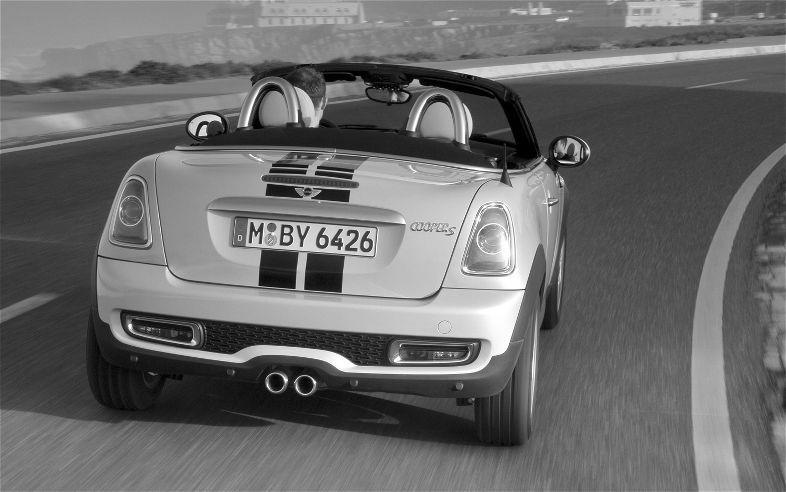car: (83, 61, 590, 450)
